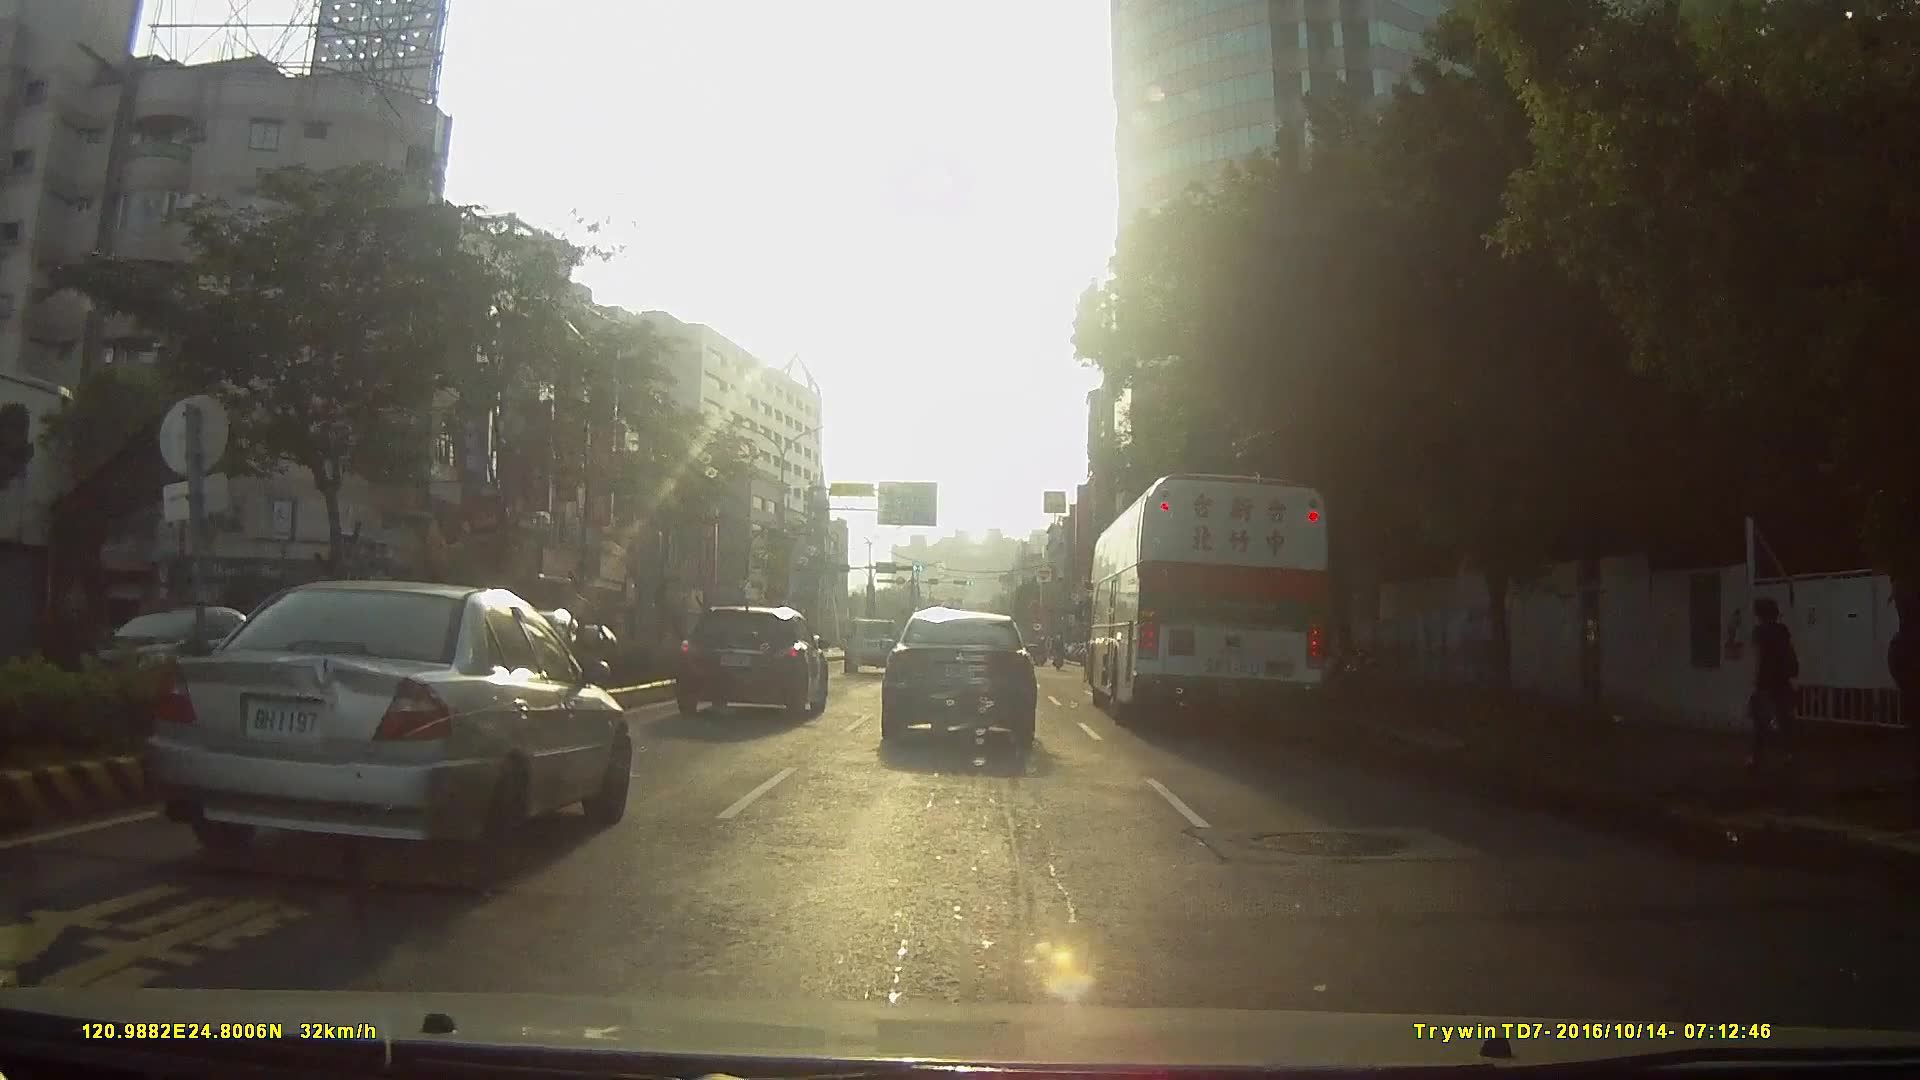pedestrian: (1746, 595, 1807, 764)
vehicle: (138, 577, 630, 888), (1089, 467, 1341, 729), (876, 608, 1038, 751), (673, 602, 829, 720), (843, 616, 903, 674)
